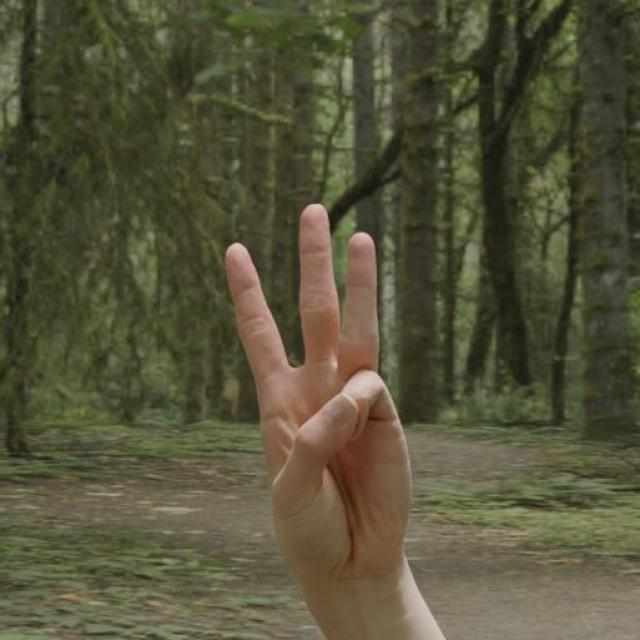W: (221, 200, 439, 621)
